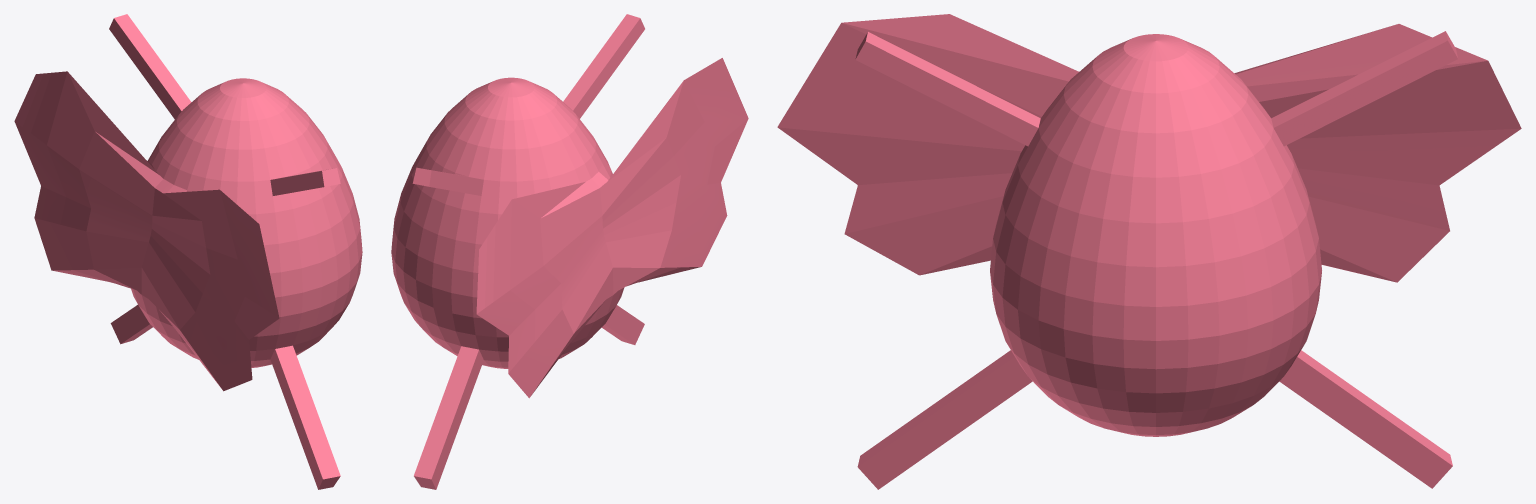
The model's file is tamagonoyousei.fbx.
3 renders of one model, left to right at view 1: azimuth 30°, elevation 25°; view 2: azimuth 150°, elevation 25°; view 3: azimuth 270°, elevation 25°, orthographic. The views are drawn at different scales.
Visible parts, largest first — view 1: 球.003; view 2: 球.003; view 3: 球.003.
Part boxes in pixels (x1=…): 球.003: x1=14, y1=14, x2=362, y2=489; 球.003: x1=391, y1=14, x2=748, y2=489; 球.003: x1=777, y1=14, x2=1521, y2=489.
Bounding box in the file's own units: 40.43 × 60.54 × 89.62.
